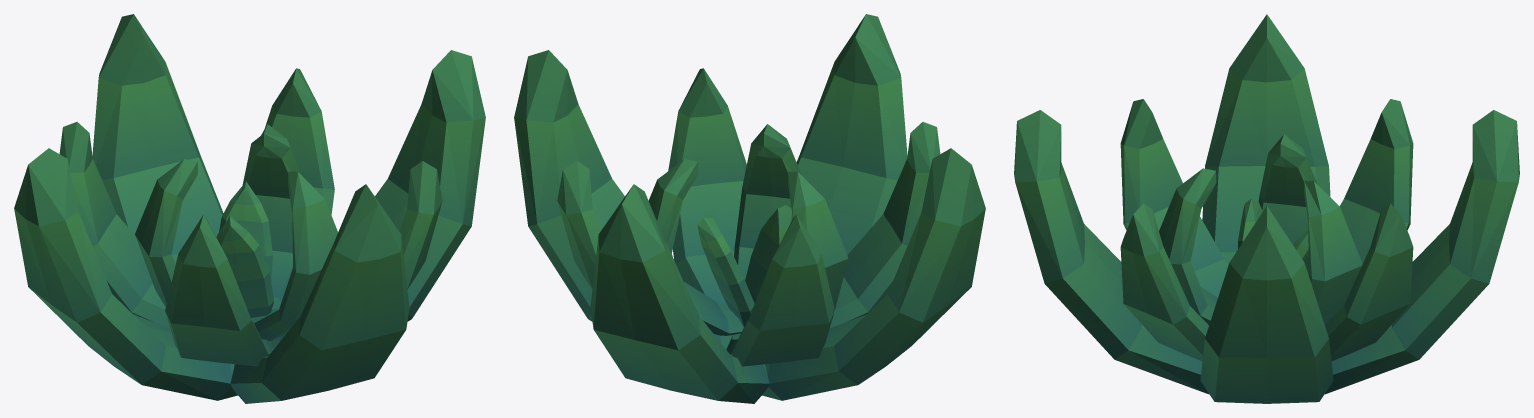
Rendered from rosette-upright.glb.
3 renders of one model, left to right at view 1: azimuth 30°, elevation 25°; view 2: azimuth 150°, elevation 25°; view 3: azimuth 270°, elevation 25°, orthographic. The views are drawn at different scales.
Visible parts, largest first — view 1: plant; view 2: plant; view 3: plant.
Boxes of the visible parts, left/top/right/bottom form: plant: left=14, top=14, right=485, bottom=403; plant: left=514, top=14, right=985, bottom=403; plant: left=1014, top=14, right=1519, bottom=403.
Size of the model in its own units: 0.5527 by 0.3307 by 0.5527.
